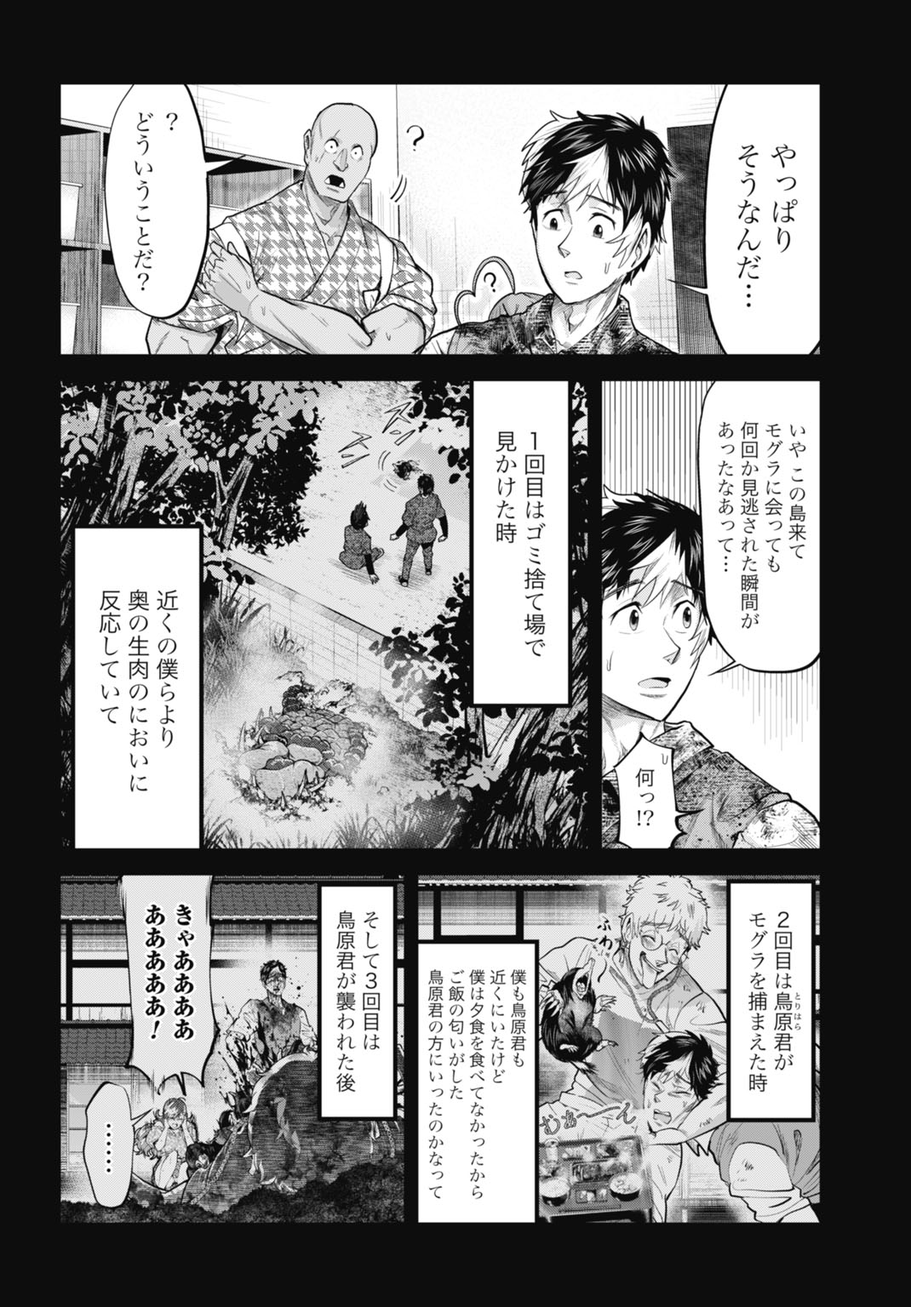bubbles: (670, 382, 819, 695), (68, 525, 209, 853), (662, 83, 821, 355), (410, 938, 544, 1229), (461, 381, 577, 714), (99, 83, 243, 319), (112, 874, 233, 1097), (720, 880, 820, 1127), (312, 880, 400, 1127), (604, 729, 726, 849), (77, 1078, 169, 1212)
